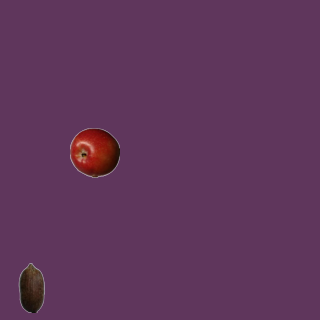Apple Braeburn: (69, 127, 119, 177)
Nut Pecan: (6, 262, 56, 312)
